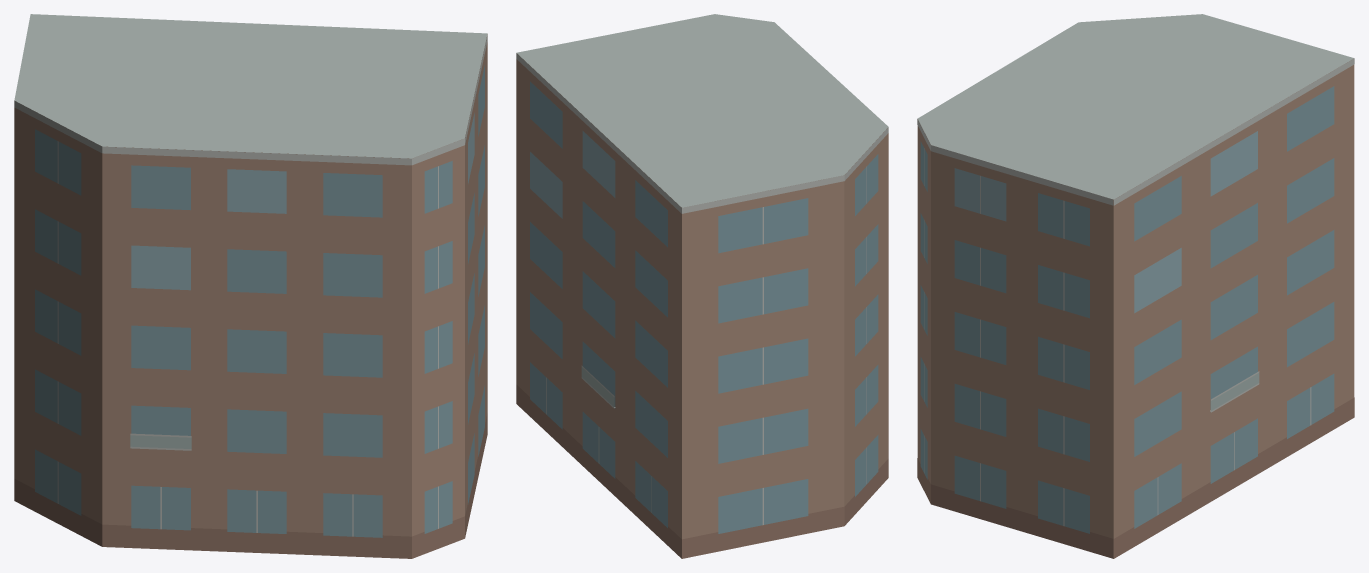
The model's file is survey-upis-32837716.glb.
The picture shows the model from 3 angles, left to right: view 1: azimuth 30°, elevation 25°; view 2: azimuth 150°, elevation 25°; view 3: azimuth 270°, elevation 25°; orthographic projection. The views are drawn at different scales.
Parts seen in each view (by area): view 1: survey-upis-32837716.tmp; view 2: survey-upis-32837716.tmp; view 3: survey-upis-32837716.tmp.
Part boxes in pixels (<box>): survey-upis-32837716.tmp: <box>14,14,487,558</box>; survey-upis-32837716.tmp: <box>516,14,888,558</box>; survey-upis-32837716.tmp: <box>917,14,1354,558</box>.
Bounding box in the file's own units: 15.73 × 14.19 × 15.65.
